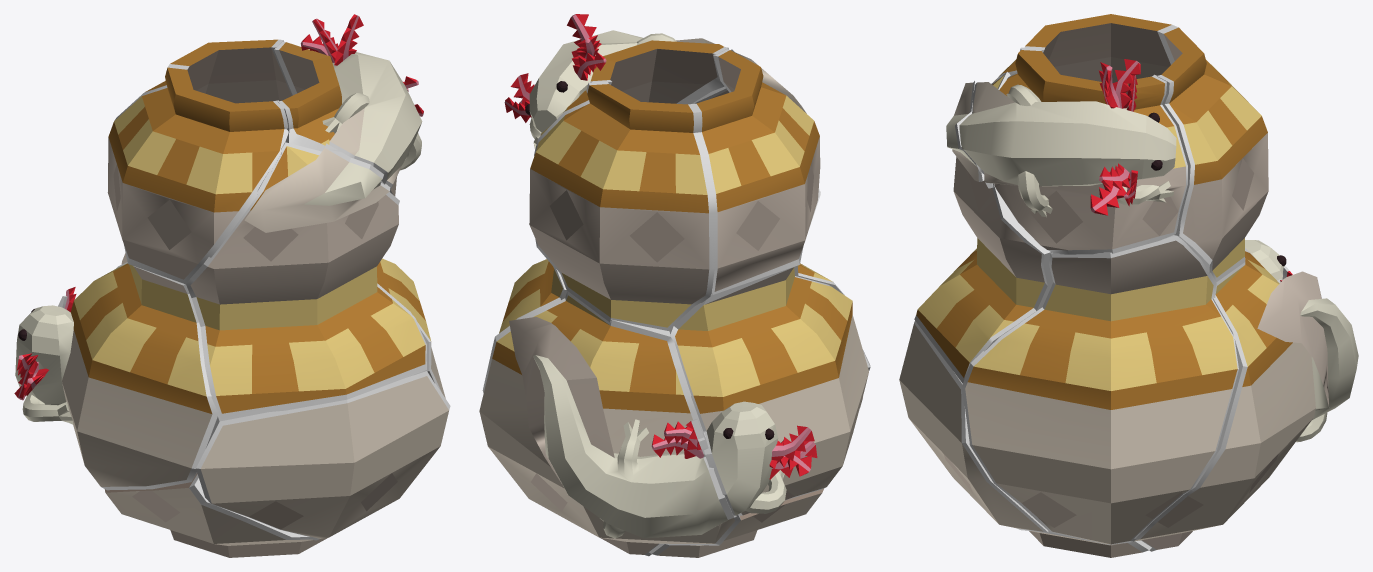
The model's file is v6_axolotl.fbx.
The picture shows the model from 3 angles, left to right: view 1: azimuth 30°, elevation 25°; view 2: azimuth 150°, elevation 25°; view 3: azimuth 270°, elevation 25°; orthographic projection. The views are drawn at different scales.
Visible parts, largest first — view 1: shard3, shard6, shard1, shard2, shard4, shard7, shard5, gold3, gold1, shard9, gold2, gold6 (+2 smaller); view 2: shard8, shard5, shard6, shard2, shard4, gold8, shard7, shard9, gold5, gold2, gold6, shard3 (+2 smaller); view 3: shard9, shard4, shard8, shard5, shard3, shard1, shard2, gold9, gold3, gold8, gold5, shard7 (+3 smaller).
Part boxes in pixels (box(x1,y1,x2,y2)): shard3: box(190, 146, 425, 413); shard6: box(14, 263, 212, 486); shard1: box(200, 376, 448, 538); shard2: box(107, 67, 284, 279); shard4: box(279, 14, 423, 196); shard7: box(104, 473, 327, 557); shard5: box(145, 39, 291, 103); gold3: box(186, 142, 426, 421); gold1: box(196, 371, 450, 540); shard9: box(377, 258, 445, 398); gold2: box(114, 65, 288, 284); gold6: box(101, 266, 219, 490); shard8: box(479, 295, 734, 554); shard5: box(529, 84, 709, 327); shard6: box(675, 267, 868, 515); shard2: box(696, 50, 820, 291); shard4: box(504, 14, 723, 149); gold8: box(482, 291, 740, 556); shard7: box(658, 397, 862, 557); shard9: box(499, 259, 562, 333); gold5: box(534, 81, 714, 331); gold2: box(691, 49, 803, 295); gold6: box(669, 267, 831, 515); shard3: box(711, 52, 832, 281); shard9: box(965, 240, 1237, 544); shard4: box(959, 50, 1185, 250); shard8: box(1117, 251, 1358, 549); shard5: box(1161, 27, 1268, 277); shard3: box(916, 75, 1044, 377); shard1: box(899, 323, 1043, 531); shard2: box(994, 14, 1171, 82); gold9: box(962, 235, 1238, 544); gold3: box(914, 72, 1053, 383); gold8: box(1109, 248, 1289, 551); gold5: box(1157, 26, 1245, 282); shard7: box(1029, 531, 1142, 557).
Size of the model in its own units: 11.3 by 14.4 by 11.84.
